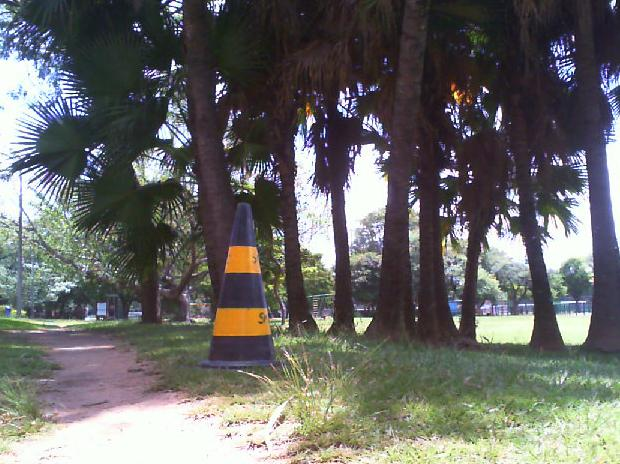0 cone: (196, 202, 282, 368)
